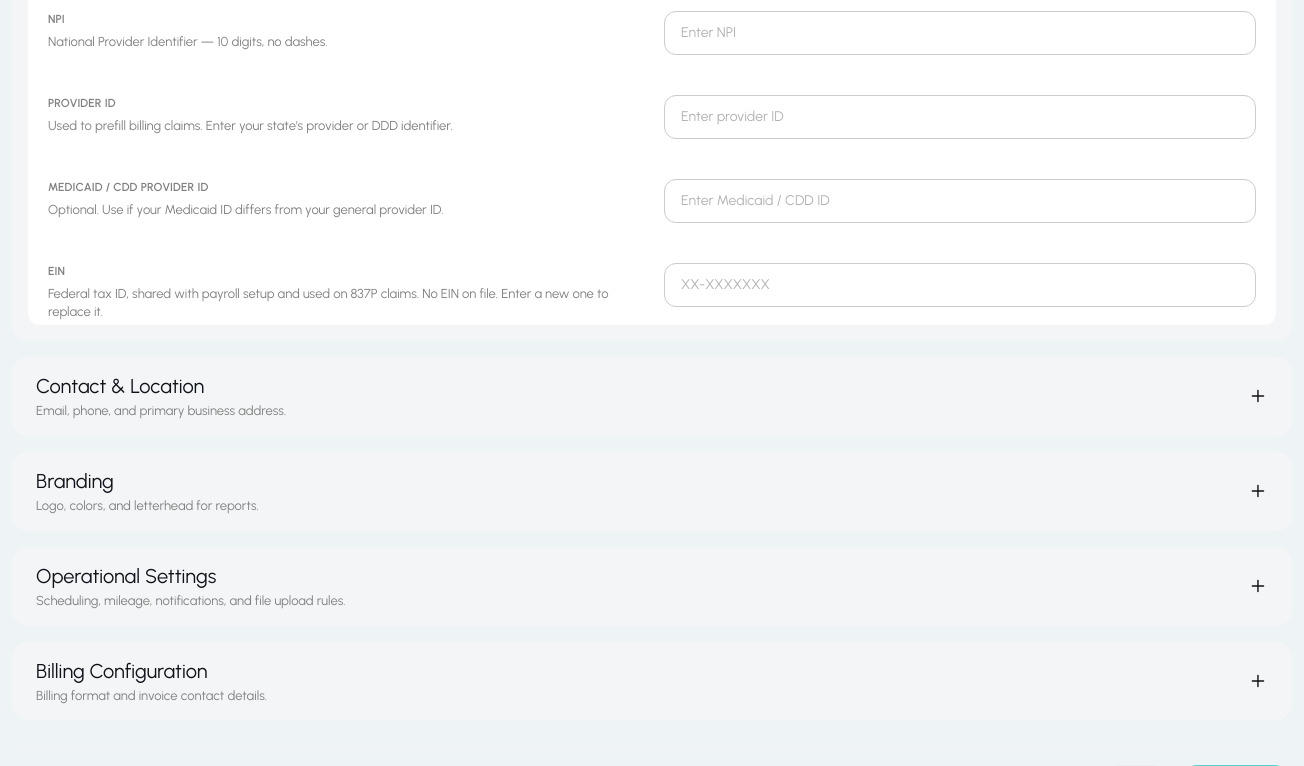
Test: AgencyInfoTab timezone › shows Eastern Time as a fixed value with nothing to pick
(page scrolled)
What coordinates should you click on to do the following:
click the button "Contact & Location"
I would click on:
 (120, 386)
Its box is [12,357,1292,436].
(page scrolled)
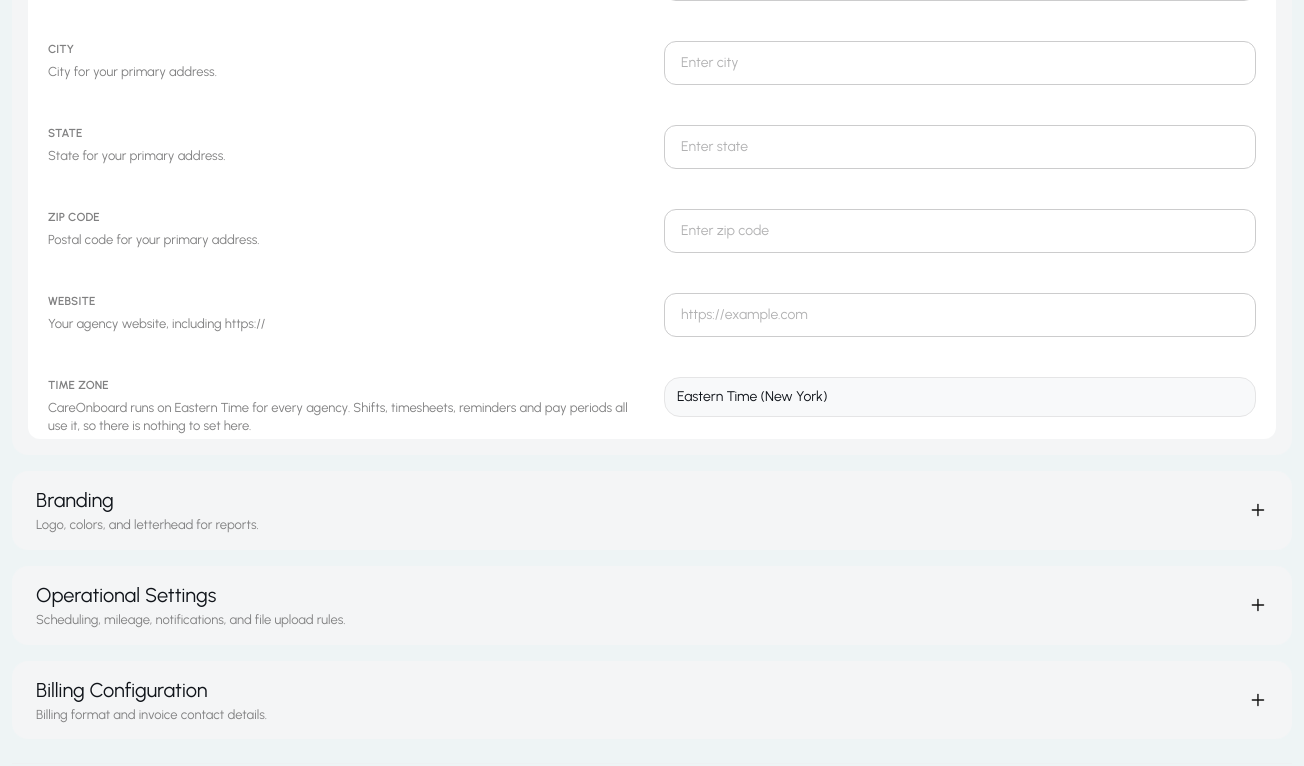
Now the text "Eastern Time (New York)" is shown, box [664,377,1256,417]
